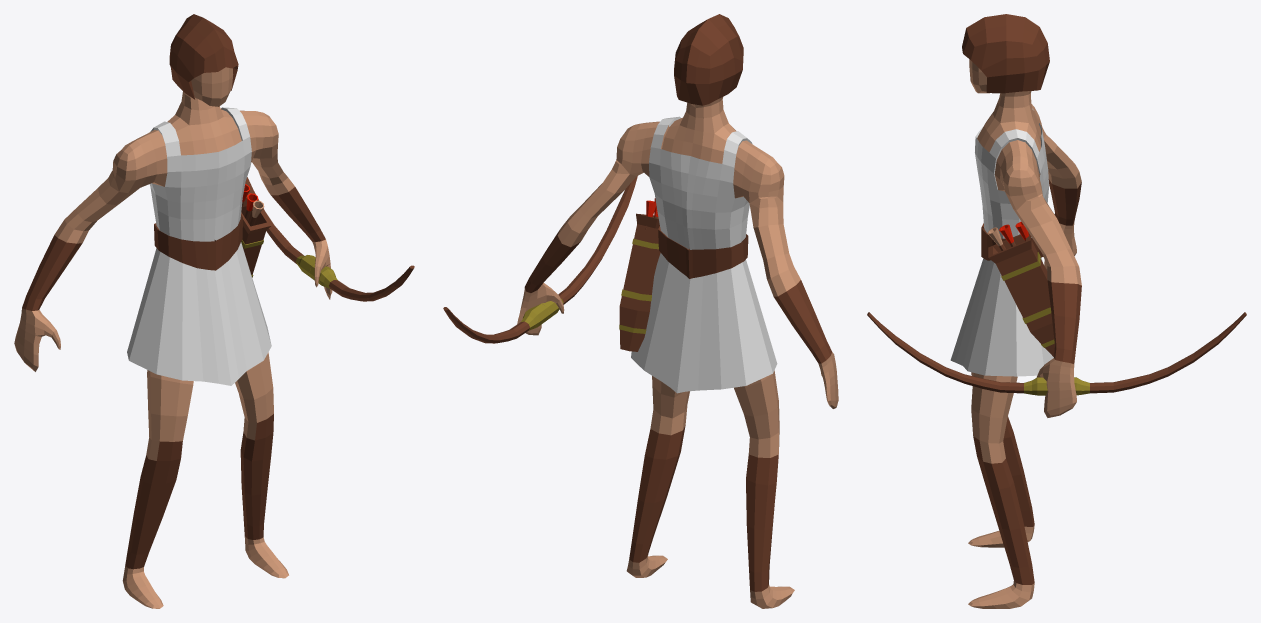
Rendered from RangedEra1.fbx.
The picture shows the model from 3 angles, left to right: view 1: azimuth 30°, elevation 25°; view 2: azimuth 150°, elevation 25°; view 3: azimuth 270°, elevation 25°; orthographic projection.
Visible parts, largest first — view 1: Cube.003, Cube, Cube.001, Cube.004, Cube.002, Cube.005, Cylinder, Cube.006, Cylinder.001; view 2: Cube.003, Cube, Cube.001, Cube.004, Cube.006, Cube.002, Cylinder, Cube.005, Cylinder.001, Cube.007; view 3: Cube, Cube.003, Cube.004, Cube.001, Cube.006, Cube.002, Cylinder, Cylinder.001, Cube.007.
Part boxes in pixels (x1,y1,x2,y2): Cube.003: (127, 107, 271, 385); Cube: (14, 67, 332, 608); Cube.001: (125, 414, 273, 569); Cube.004: (169, 14, 238, 99); Cube.002: (22, 187, 325, 310); Cube.005: (154, 215, 242, 270); Cylinder: (245, 177, 414, 301); Cube.006: (241, 192, 271, 274); Cylinder.001: (295, 255, 337, 288); Cube.003: (631, 116, 777, 393); Cube: (517, 97, 838, 608); Cube.001: (629, 425, 778, 591); Cube.004: (674, 14, 743, 105); Cube.006: (619, 213, 660, 351); Cube.002: (525, 229, 831, 363); Cylinder: (443, 176, 637, 343); Cube.005: (658, 226, 748, 278); Cylinder.001: (521, 299, 563, 330); Cube.007: (619, 238, 658, 333); Cube: (968, 59, 1081, 608); Cube.003: (950, 108, 1053, 376); Cube.004: (962, 14, 1049, 93); Cube.001: (973, 417, 1034, 584); Cube.006: (988, 232, 1054, 356); Cube.002: (1047, 179, 1081, 363); Cylinder: (867, 312, 1246, 393); Cylinder.001: (1024, 377, 1089, 395); Cube.007: (1001, 252, 1054, 347).
Size of the model in its own units: 368 by 641 by 393.
